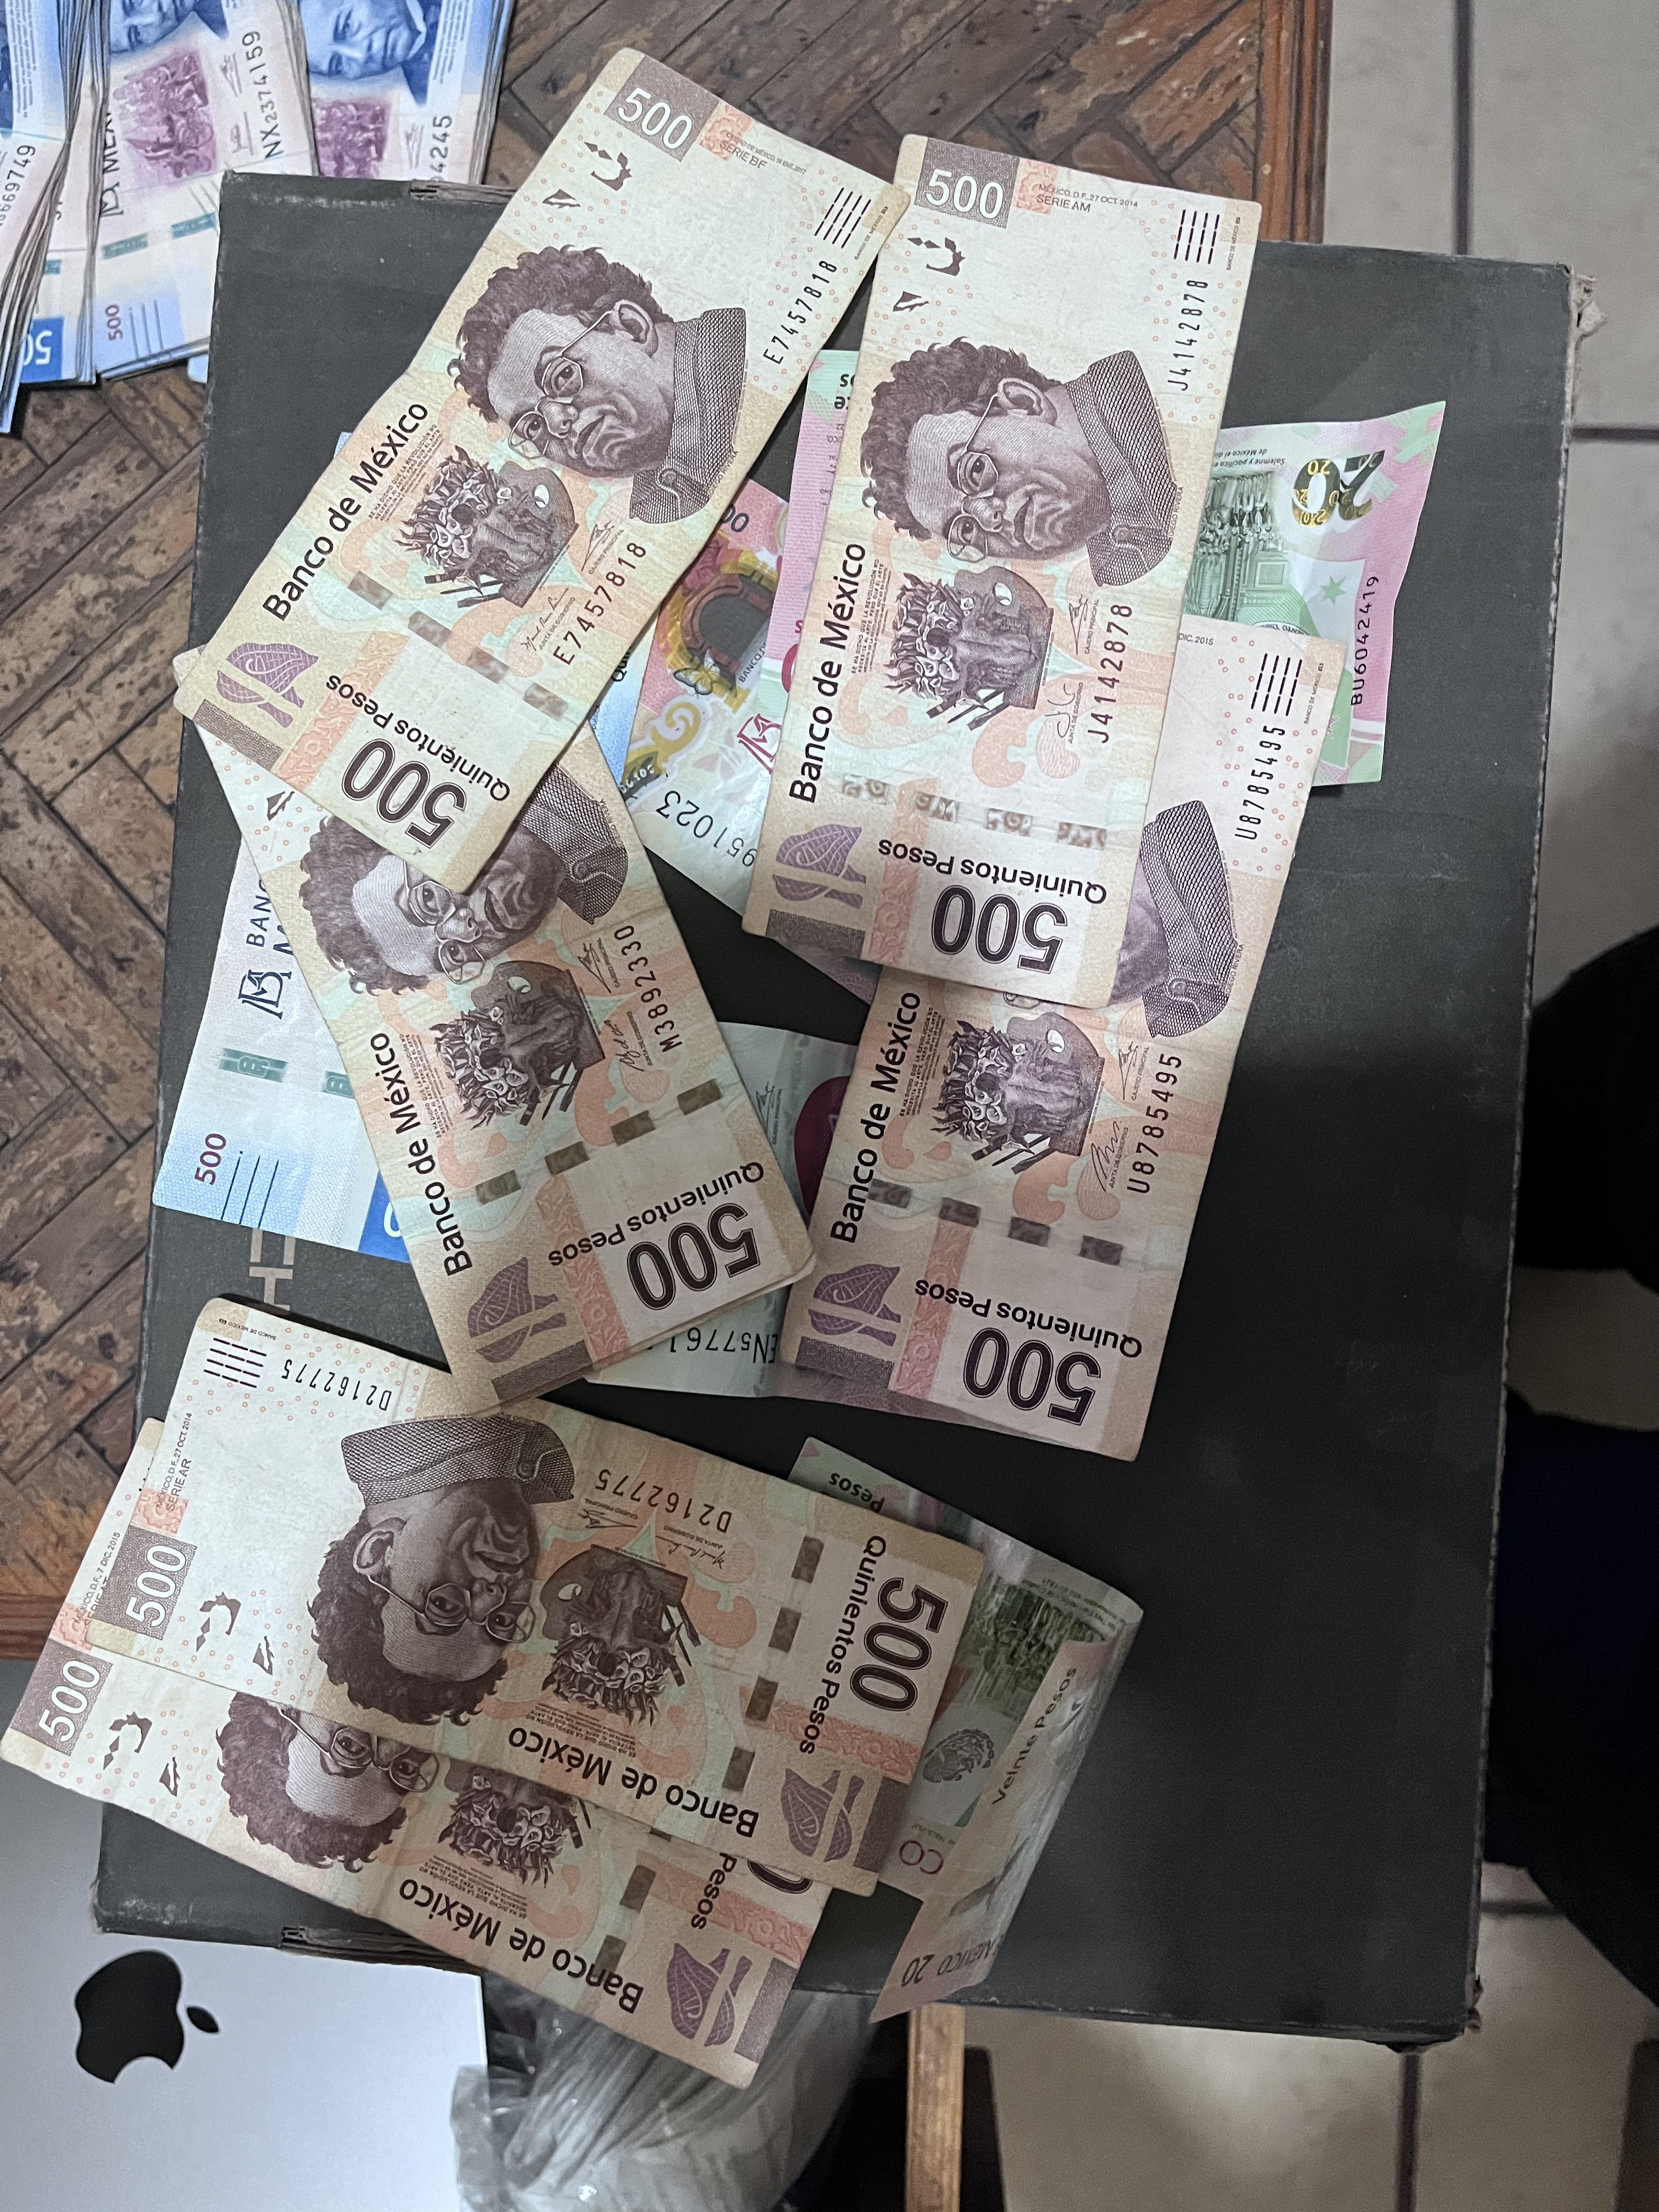20: (1153, 368, 1454, 834)
500: (184, 48, 882, 889), (118, 1318, 984, 1896), (823, 579, 1367, 1489), (2, 1595, 828, 2076), (809, 137, 1257, 1006), (267, 753, 813, 1411)
500 nuevo: (151, 821, 415, 1250), (81, 0, 329, 386), (1, 3, 112, 423), (309, 3, 515, 191)
